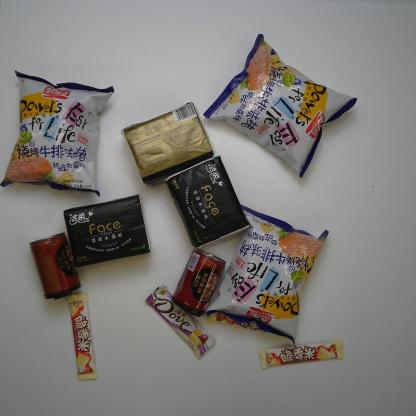Canned Food: (170, 248, 227, 320), (27, 231, 82, 302)
Chocolate: (143, 282, 219, 360), (66, 292, 98, 383), (260, 337, 344, 370), (207, 304, 279, 334)
Puffed Food: (200, 30, 360, 180), (204, 203, 330, 345), (0, 68, 116, 198)
Tissue: (118, 100, 217, 190), (162, 153, 250, 252), (62, 194, 153, 270)
